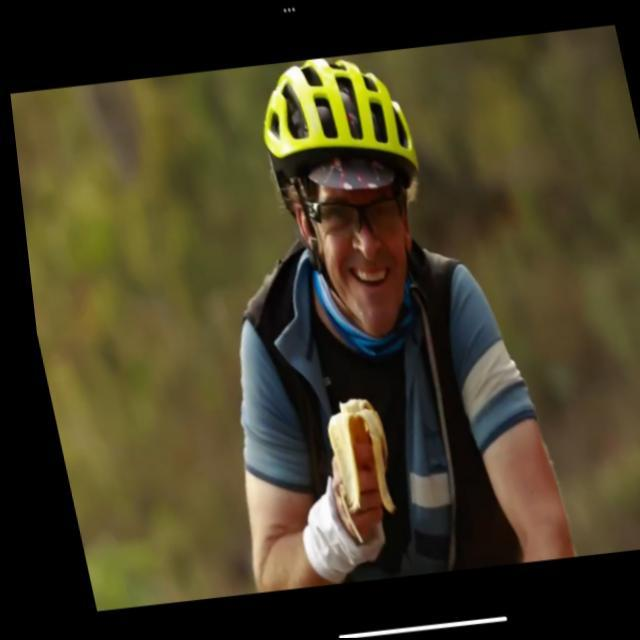Helmet: (260, 55, 424, 327)
